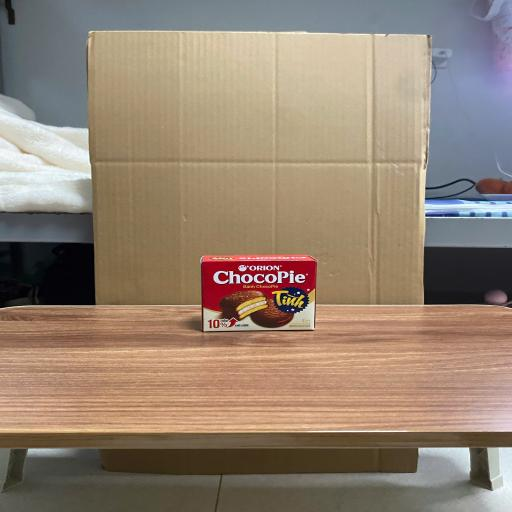chocopie: (201, 255, 317, 330)
